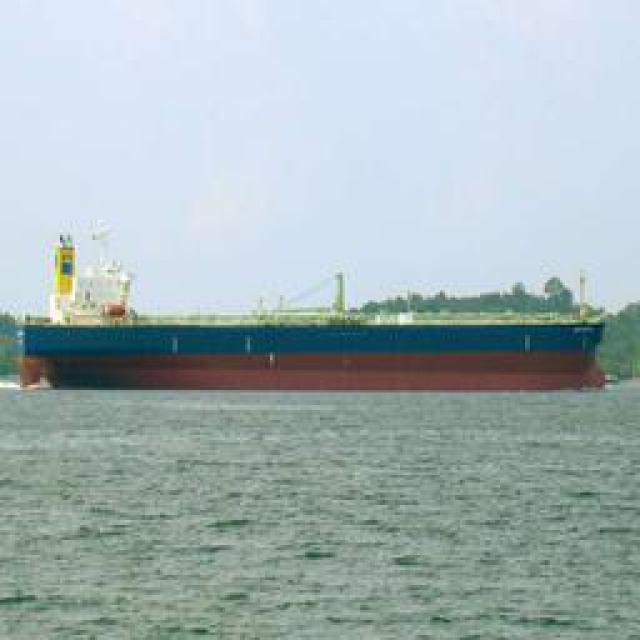Ship: (25, 310, 610, 393)
